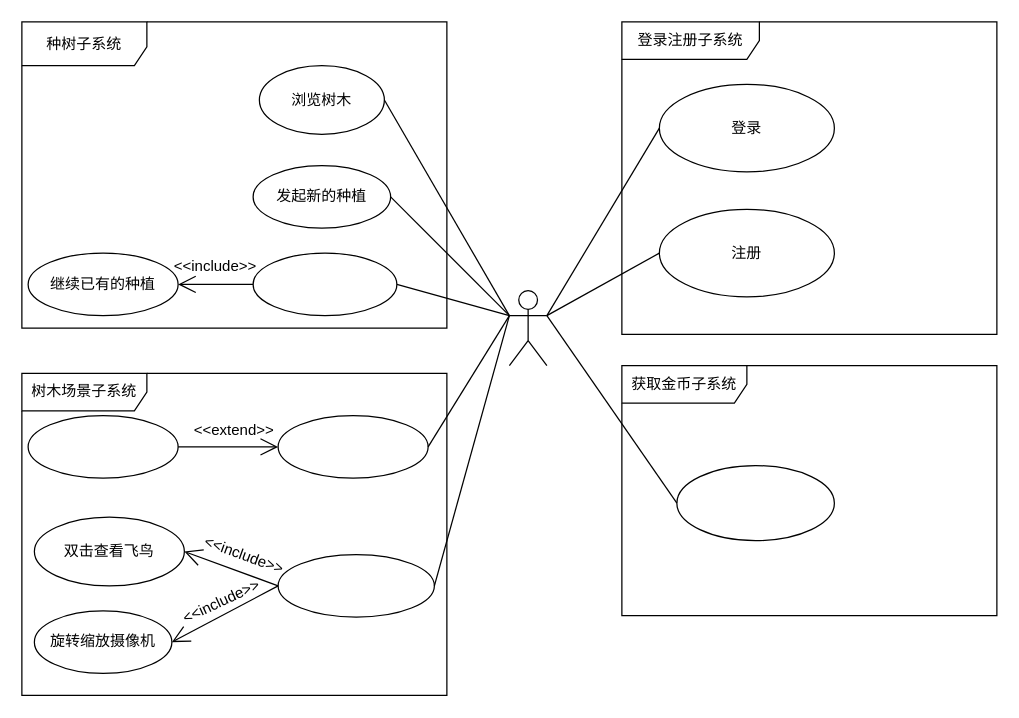
The diagram is 1019 pixels wide and 718 high, and some of its shapes have lost their labels. Each missing label, with the centre of its shape:
查看我的种植: point 324,284
树木成长: point 102,446
浇水: point 352,446
浏览界面: point 355,585
用户: point 527,327
答题: point 755,502
